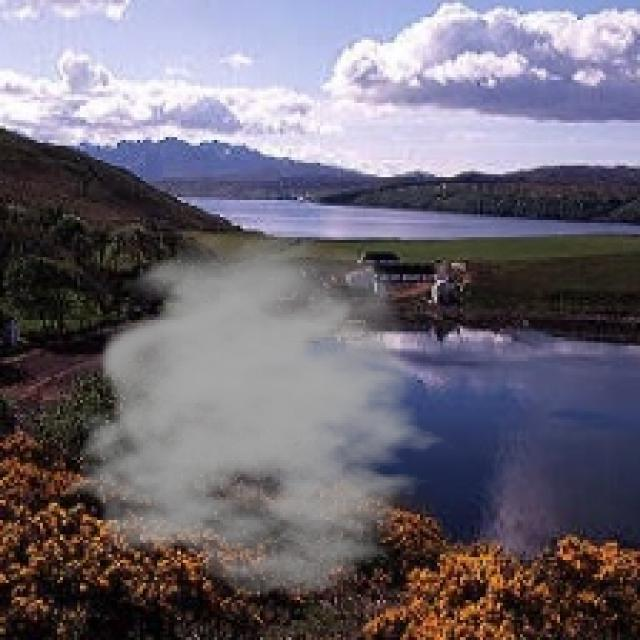Smoke: (66, 232, 463, 597)
